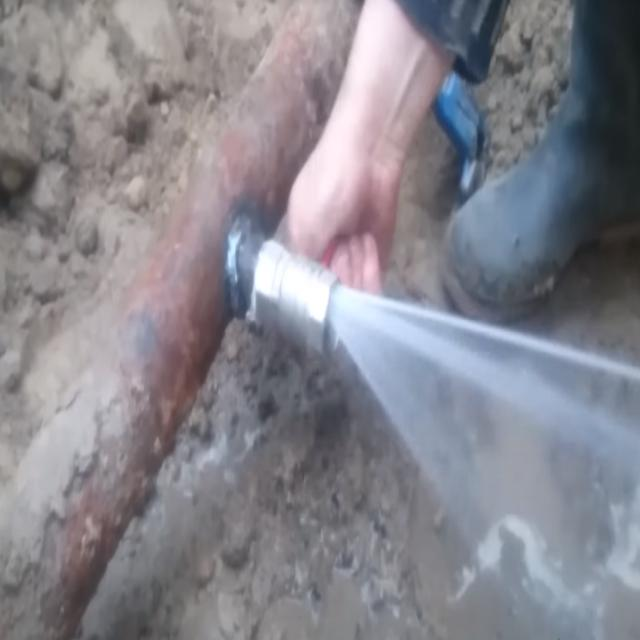leak: (329, 286, 640, 622)
